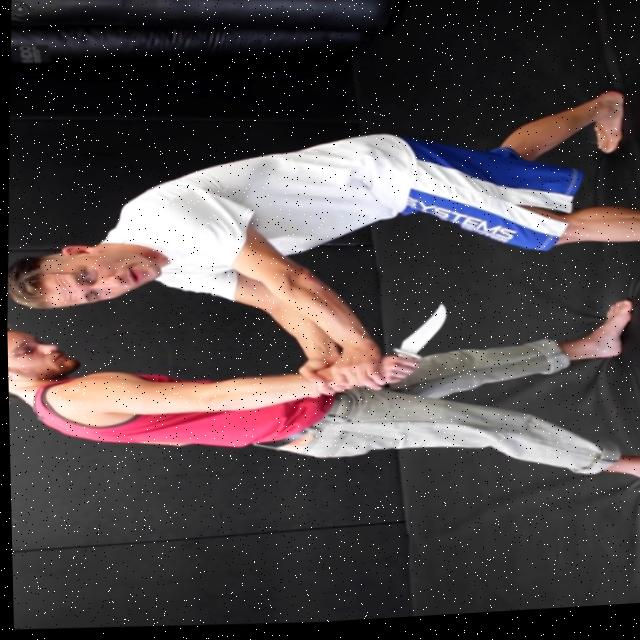knife: (386, 306, 455, 363)
